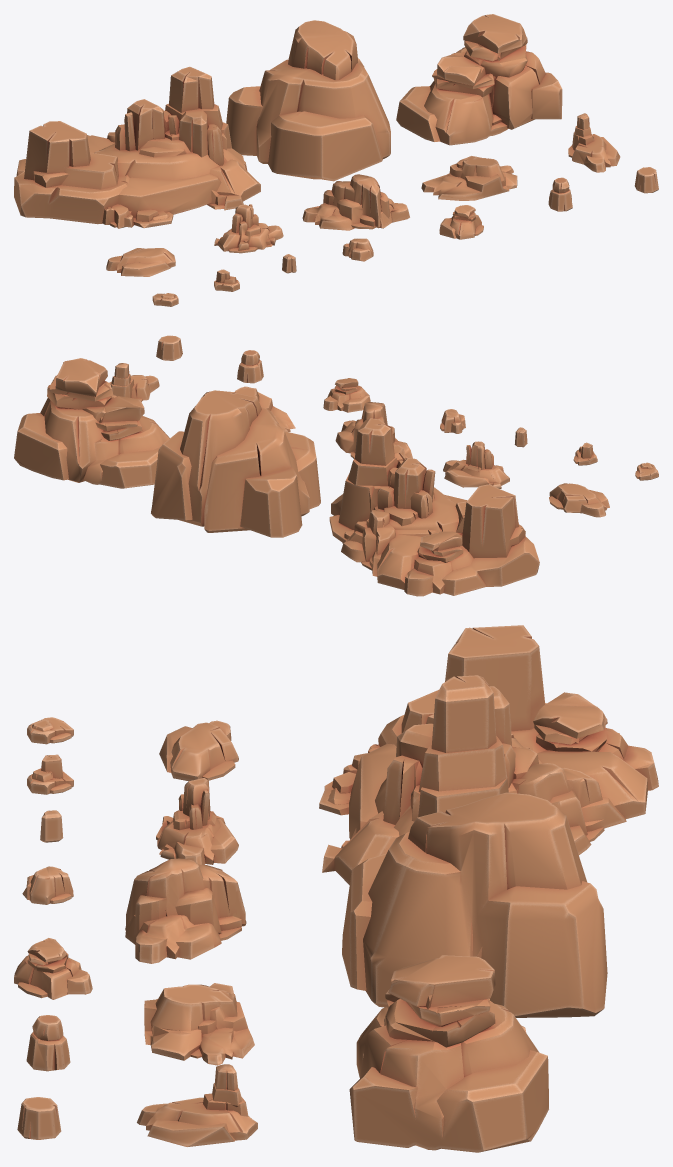
The picture shows the model from 3 angles, top to bottom: view 1: azimuth 30°, elevation 25°; view 2: azimuth 150°, elevation 25°; view 3: azimuth 270°, elevation 25°; orthographic projection. The views are drawn at different scales.
Visible parts, largest first — view 1: Rock_1, Rock_2, Rock_3, Rock_6, Rock_7, Rock_5, Rock_8, Rock_4, Rock_13, Rock_14, Rock_12, Rock_15 (+1 smaller); view 2: Rock_1, Rock_2, Rock_3, Rock_5, Rock_4, Rock_6, Rock_8, Rock_13, Rock_14, Rock_7, Rock_15, Rock_12 (+1 smaller); view 3: Rock_2, Rock_1, Rock_3, Rock_6, Rock_7, Rock_8, Rock_5, Rock_4, Rock_13, Rock_14, Rock_15, Rock_12 (+2 smaller).
Part boxes in pixels (<box>): Rock_1: <box>14,66,260,228</box>; Rock_2: <box>226,20,390,181</box>; Rock_3: <box>396,14,562,145</box>; Rock_6: <box>302,174,409,230</box>; Rock_7: <box>421,156,517,200</box>; Rock_5: <box>214,204,283,253</box>; Rock_8: <box>568,113,620,172</box>; Rock_4: <box>106,248,175,276</box>; Rock_13: <box>439,205,483,239</box>; Rock_14: <box>548,177,572,211</box>; Rock_12: <box>342,238,373,261</box>; Rock_15: <box>634,167,658,193</box>; Rock_1: <box>329,418,539,596</box>; Rock_2: <box>151,390,320,537</box>; Rock_3: <box>14,358,169,488</box>; Rock_5: <box>443,441,509,488</box>; Rock_4: <box>549,483,609,517</box>; Rock_6: <box>335,402,412,459</box>; Rock_8: <box>109,363,159,401</box>; Rock_13: <box>323,378,370,412</box>; Rock_14: <box>237,350,263,383</box>; Rock_7: <box>234,386,295,431</box>; Rock_15: <box>156,335,182,360</box>; Rock_12: <box>440,409,465,433</box>; Rock_2: <box>342,792,607,1017</box>; Rock_1: <box>319,625,658,884</box>; Rock_3: <box>349,955,548,1152</box>; Rock_6: <box>125,858,246,963</box>; Rock_7: <box>144,983,254,1065</box>; Rock_8: <box>137,1064,257,1146</box>; Rock_5: <box>156,778,238,864</box>; Rock_4: <box>159,720,238,781</box>; Rock_13: <box>14,938,92,999</box>; Rock_14: <box>26,1015,70,1071</box>; Rock_15: <box>17,1097,61,1139</box>; Rock_12: <box>22,866,73,904</box>.
Size of the model in its own units: 62.73 by 12.84 by 40.
Materials: 15 (15 with a texture image).
